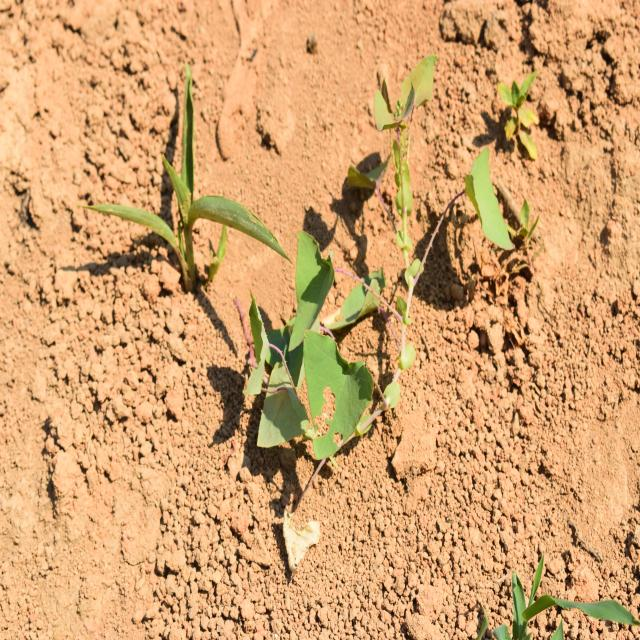Asiatic_Smartweed: (325, 63, 523, 270), (238, 240, 380, 459)
